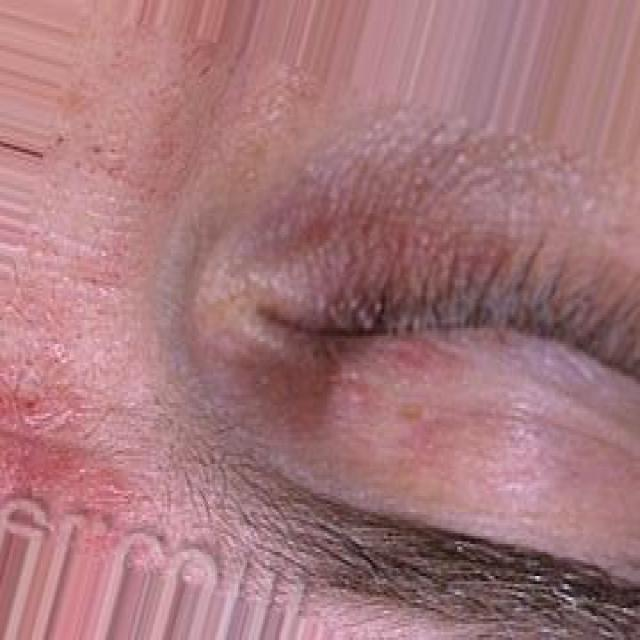Rosacea: (329, 337, 610, 526), (0, 373, 140, 539)
